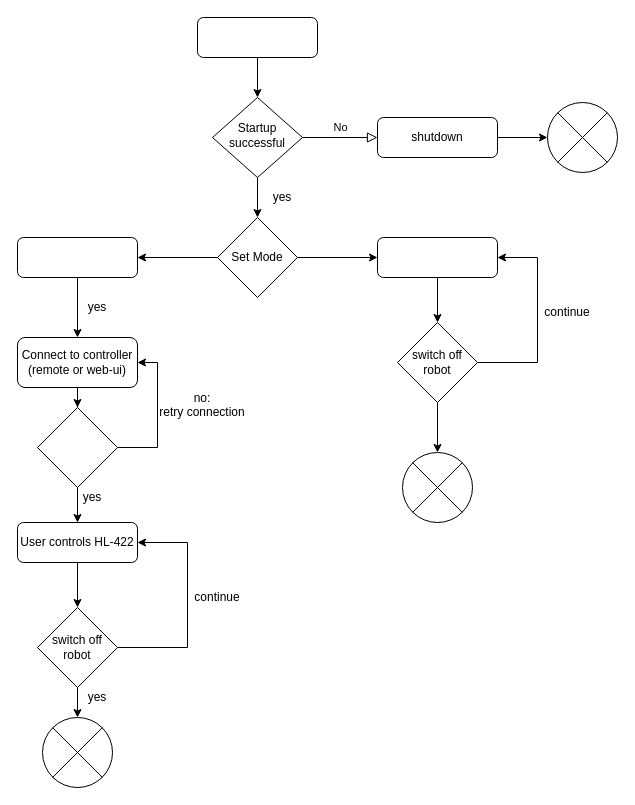
The diagram is 635 pixels wide and 805 high, and some of its shapes have lost their labels. Each missing label, with the centre of its shape:
"autonomous movement" belongs at pixel 437 257.
"controlled by user" belongs at pixel 77 257.
"controller connected" belongs at pixel 77 447.
"HL-422 startup" belongs at pixel 257 37.
